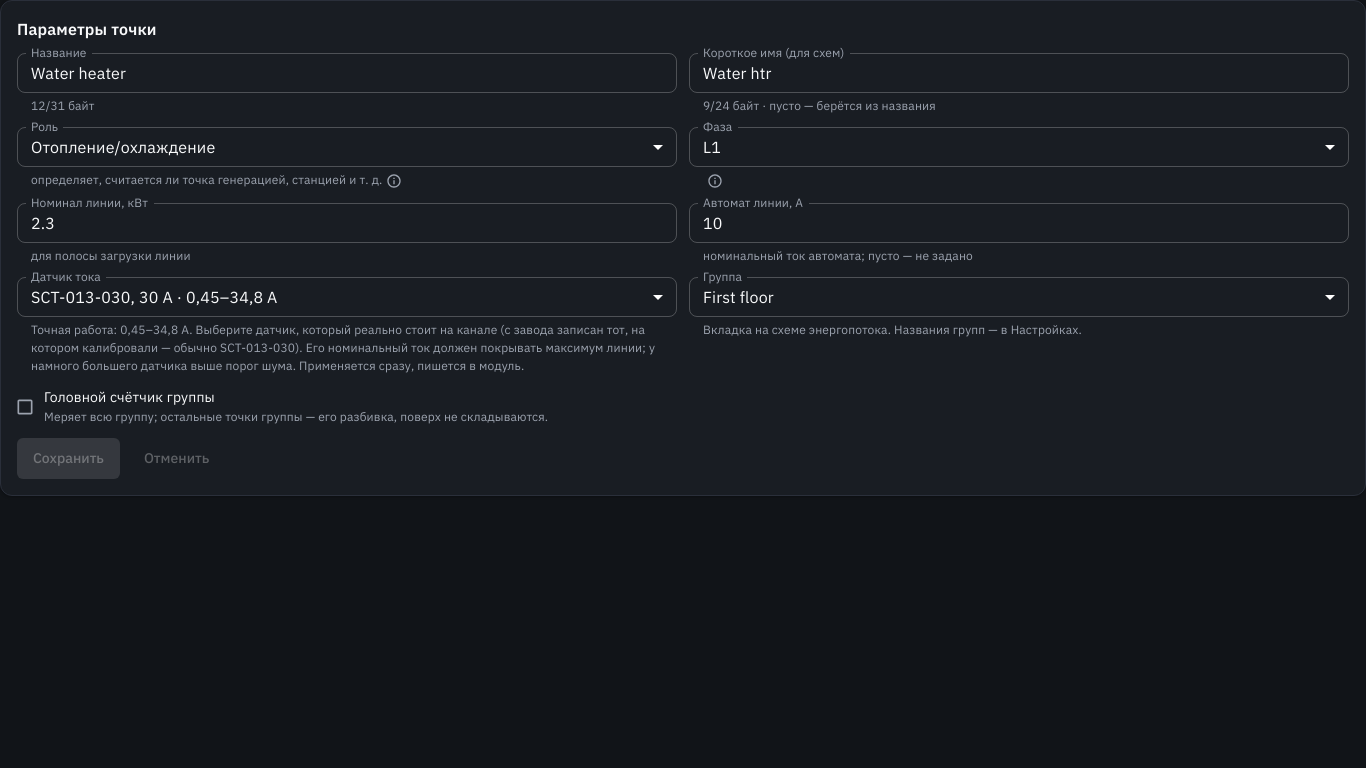
Test case: saves a line nominal and short name; other units untouched
The image size is (1366, 768).
Replace the text in the field labelled "Номинал линии, кВт" with "3,5" at coordinates (347, 223), box [17, 203, 677, 243]
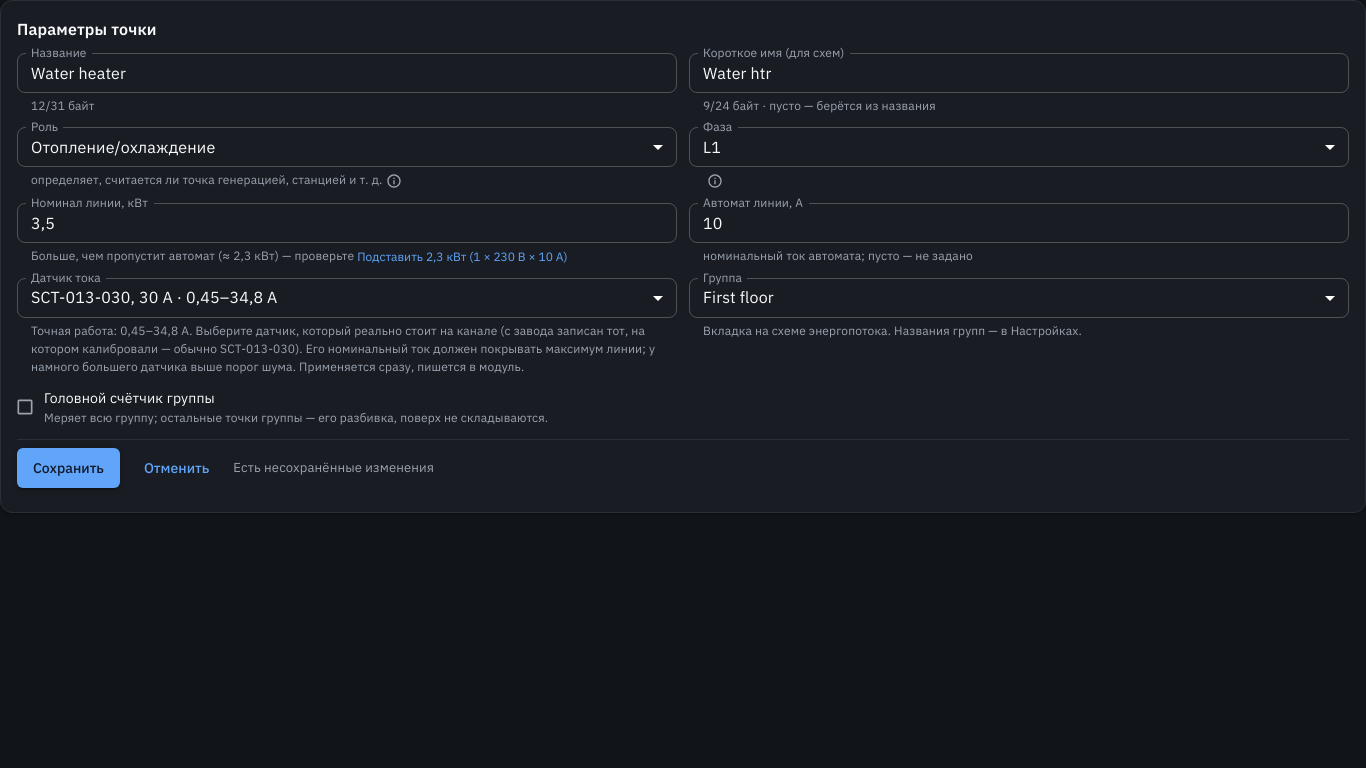
Replace the text in the field labelled "Короткое имя (для схем)" with "Бойлер-2" at coordinates (1019, 73), box [689, 53, 1349, 93]
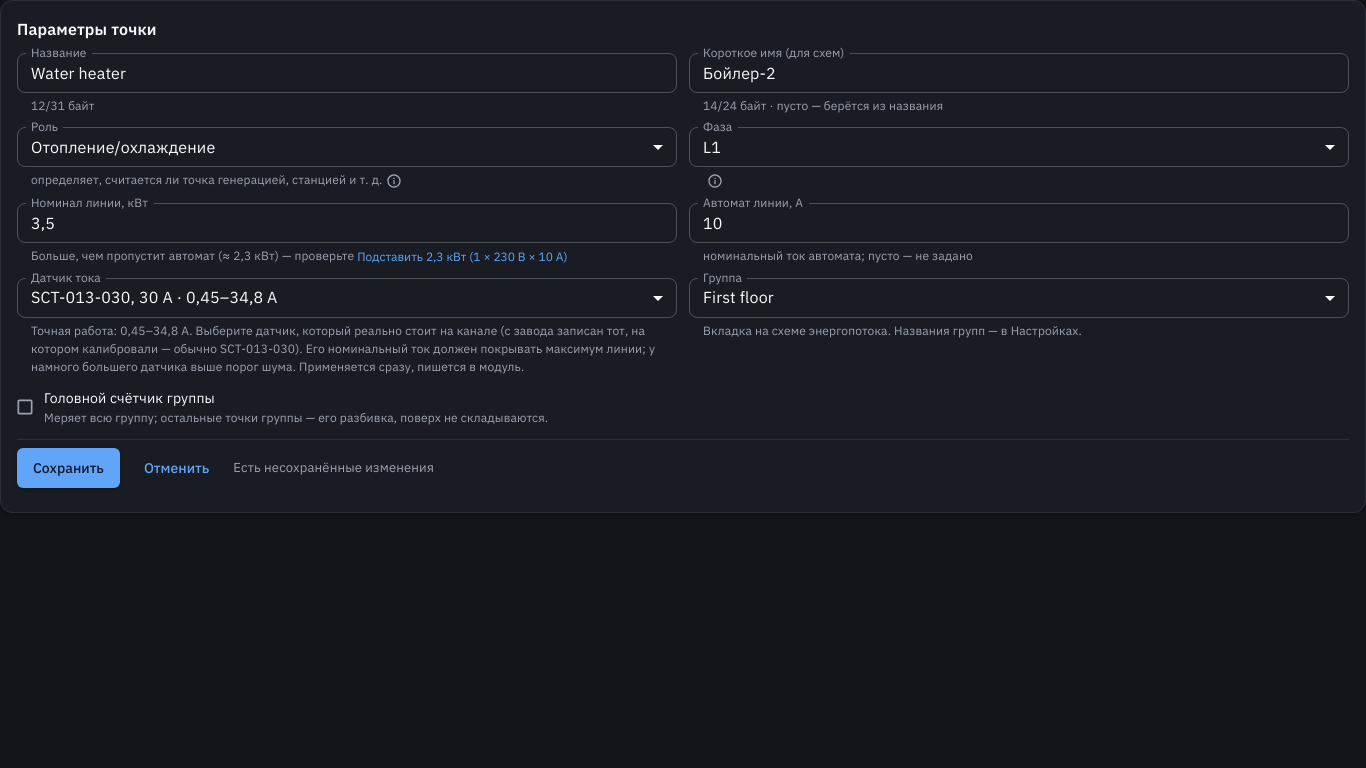
Click the button "Сохранить" at coordinates (68, 468), box [17, 448, 120, 488]
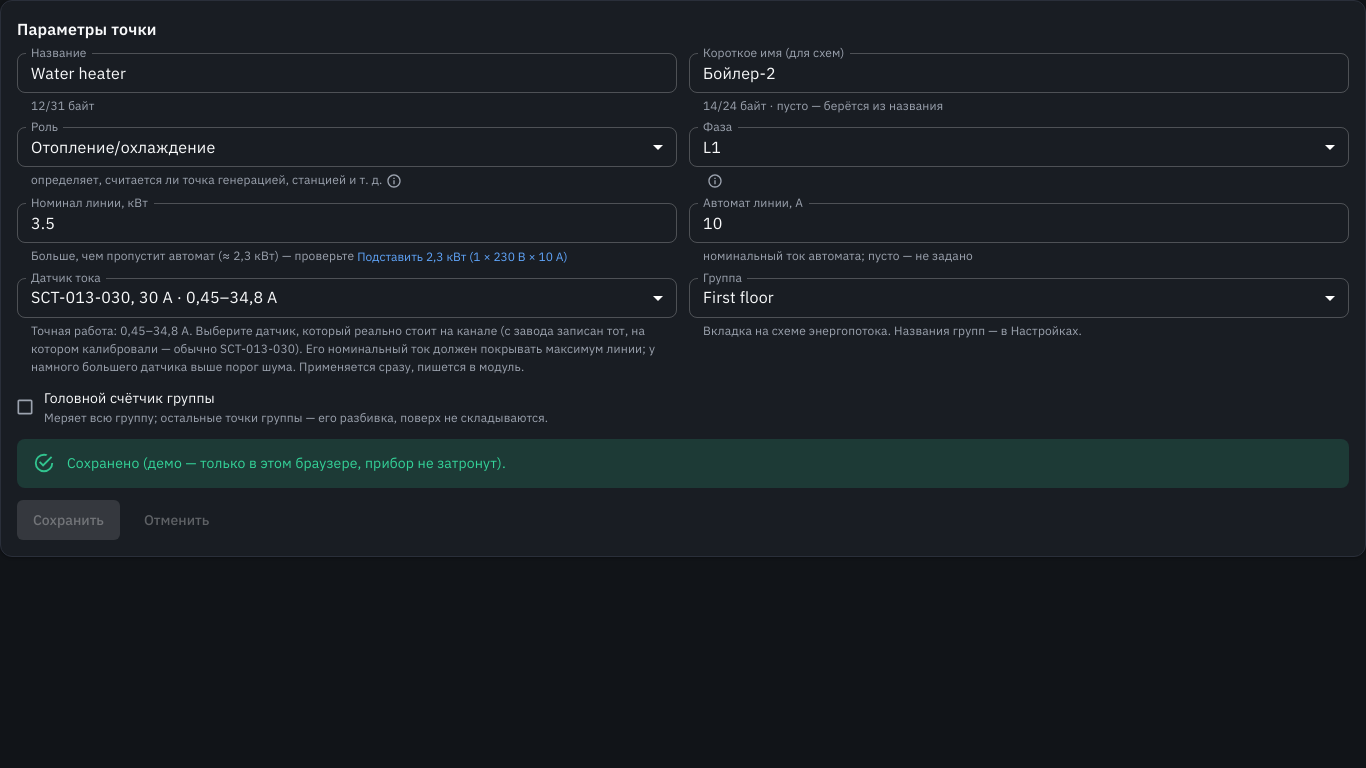
Now the text "Сохранено (демо — только в этом браузере, прибор не затронут)." is shown, box [67, 454, 506, 472]
